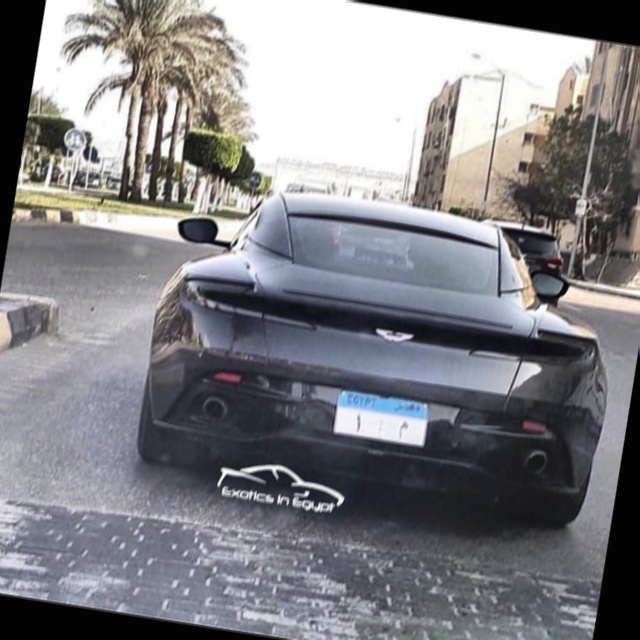License Plate: (331, 387, 434, 450)
